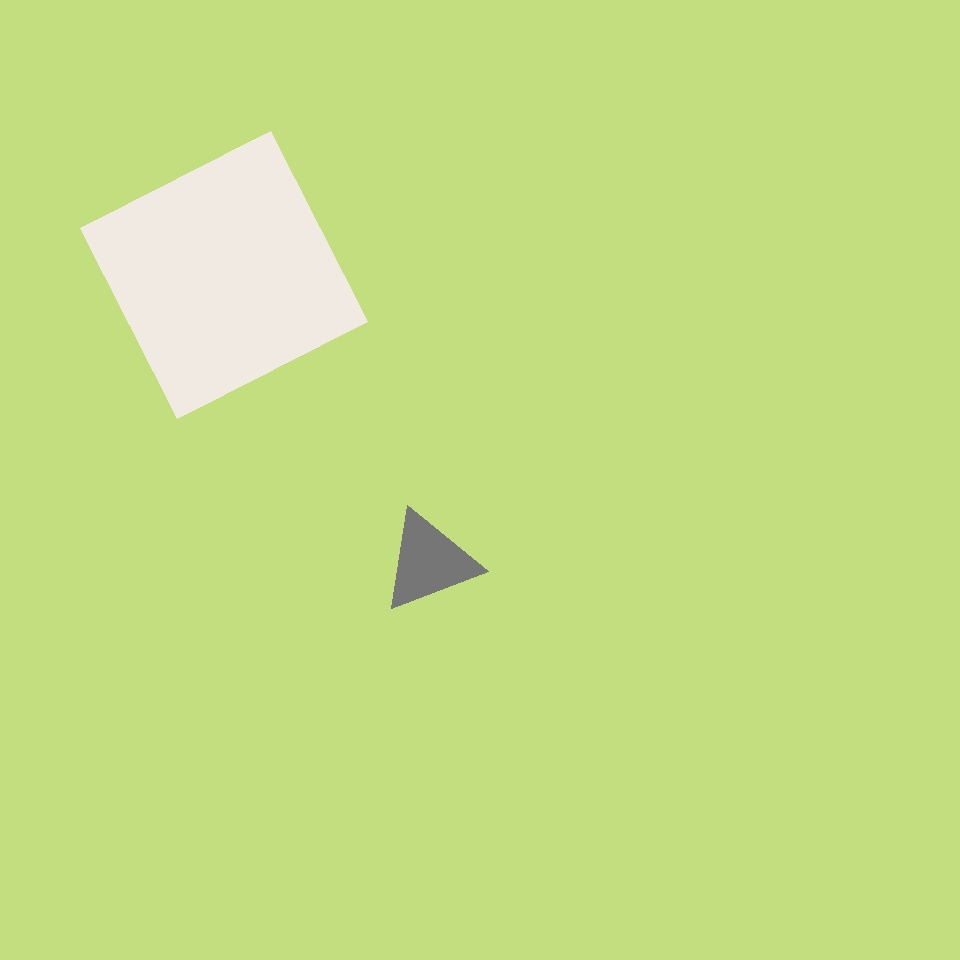circle: (202, 252, 340, 389), (380, 511, 478, 614)
square: (80, 132, 368, 418), (516, 754, 610, 848)
triangle: (594, 228, 823, 456)
